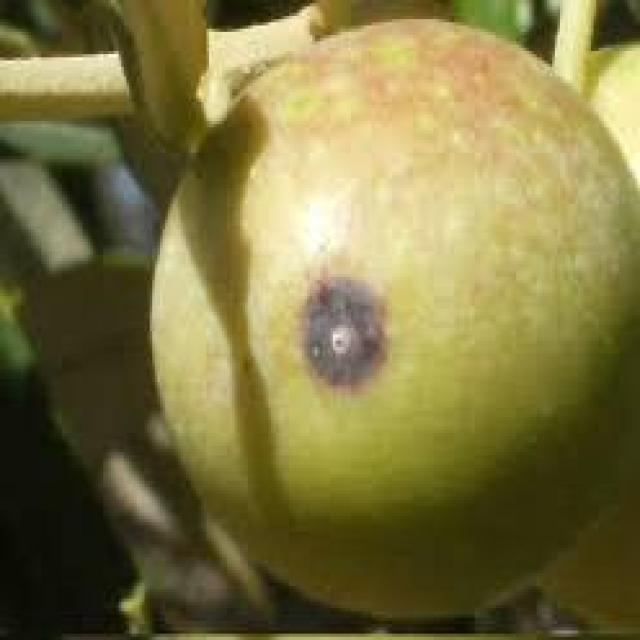Anthracnose: (152, 19, 638, 625)
